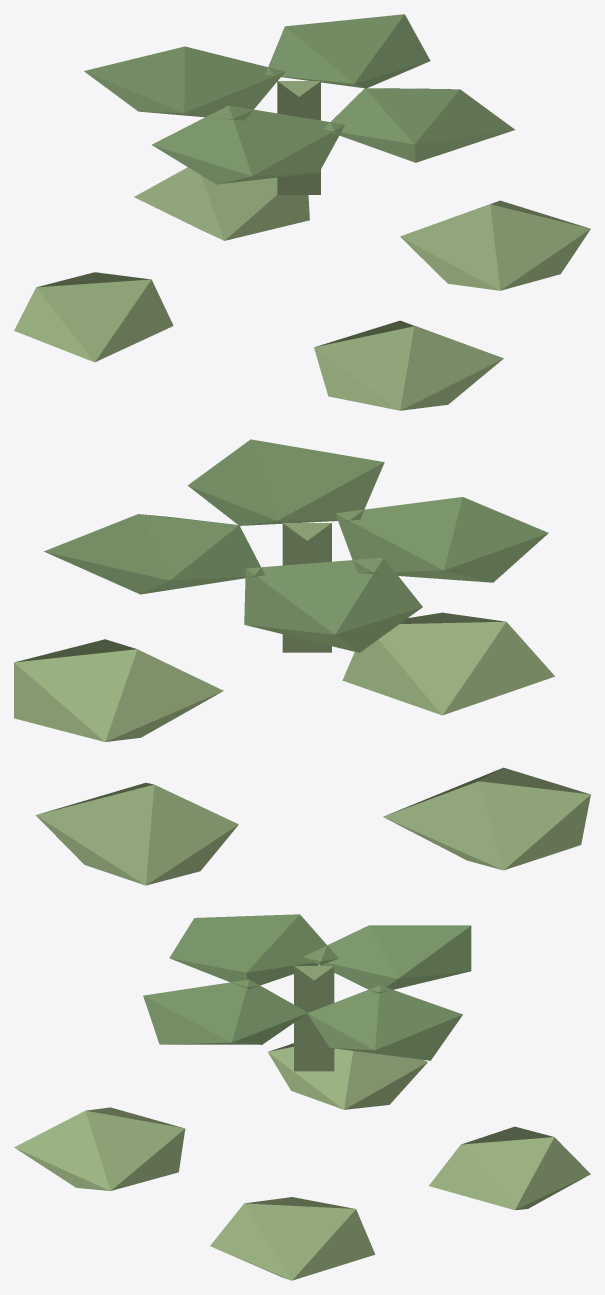
The model's file is cao.dixue@fruiting__summer.glb.
3 views of the same model, one above another, from view 1: azimuth 30°, elevation 25°; view 2: azimuth 150°, elevation 25°; view 3: azimuth 270°, elevation 25° (orthographic). The views are drawn at different scales.
Parts seen in each view (by area): view 1: cao.dixue@fruiting__summer; view 2: cao.dixue@fruiting__summer; view 3: cao.dixue@fruiting__summer.
Boxes of the visible parts, x1,y1,x2,y2 form: cao.dixue@fruiting__summer: [14, 14, 590, 410]; cao.dixue@fruiting__summer: [14, 439, 590, 885]; cao.dixue@fruiting__summer: [14, 914, 590, 1280].
Bounding box in the file's own units: 0.8892 × 0.4032 × 0.8919.
